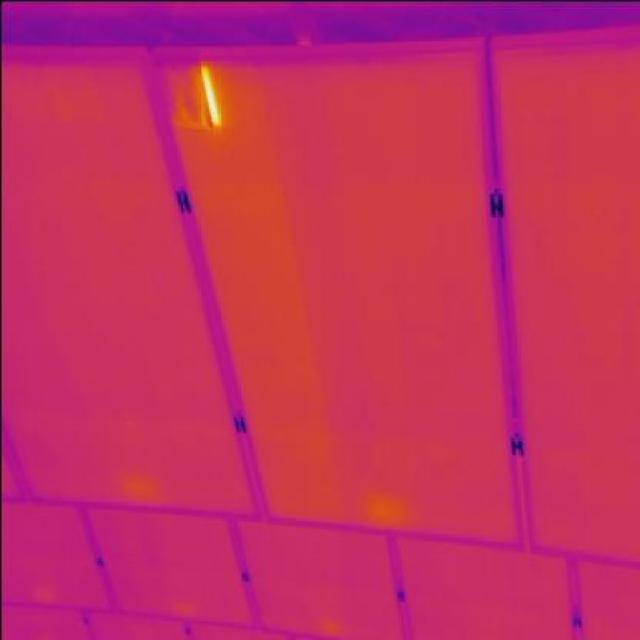hotspot: (169, 59, 222, 132)
